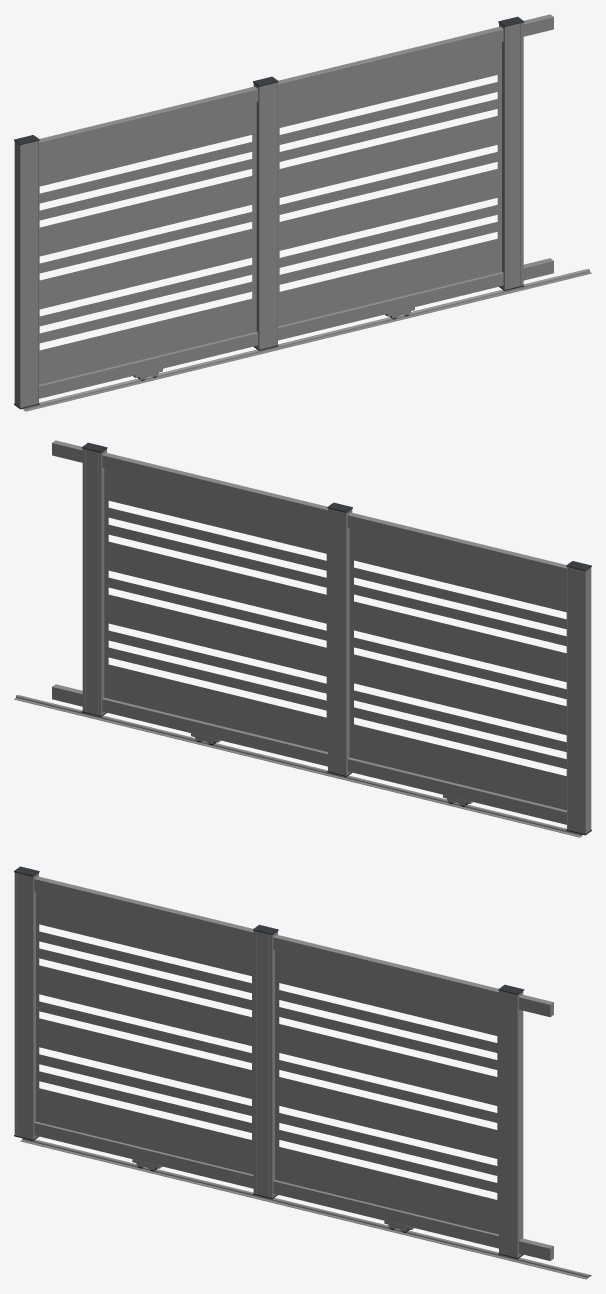
3 renders of one model, top to bottom at view 1: azimuth 30°, elevation 25°; view 2: azimuth 150°, elevation 25°; view 3: azimuth 330°, elevation 25°, orthographic.
Parts seen in each view (by area): view 1: barres horizontales001, barres horizontales, Rectangle060, Rectangle061, Shape107412643, Shape107413021, Shape107413022, Rail; view 2: barres horizontales001, barres horizontales, Rectangle060, Rectangle061, Shape107412643, Shape107413021, Shape107413022, Rail; view 3: barres horizontales001, barres horizontales, Rectangle060, Rectangle061, Shape107413021, Shape107412643, Shape107413022, Rail.
Part boxes in pixels (x1=…): barres horizontales001: x1=278, y1=42, x2=501, y2=326; barres horizontales: x1=39, y1=102, x2=256, y2=384; Rectangle060: x1=39, y1=14, x2=553, y2=154; Rectangle061: x1=39, y1=258, x2=553, y2=398; Shape107412643: x1=14, y1=141, x2=38, y2=407; Shape107413021: x1=499, y1=22, x2=523, y2=289; Shape107413022: x1=253, y1=82, x2=277, y2=349; Rail: x1=23, y1=269, x2=591, y2=411; barres horizontales001: x1=104, y1=468, x2=327, y2=751; barres horizontales: x1=349, y1=528, x2=566, y2=810; Rectangle060: x1=52, y1=440, x2=566, y2=580; Rectangle061: x1=52, y1=684, x2=566, y2=824; Shape107412643: x1=567, y1=567, x2=591, y2=833; Shape107413021: x1=82, y1=448, x2=106, y2=715; Shape107413022: x1=328, y1=508, x2=352, y2=775; Rail: x1=14, y1=695, x2=582, y2=837; barres horizontales001: x1=275, y1=950, x2=498, y2=1234; barres horizontales: x1=36, y1=892, x2=253, y2=1174; Rectangle060: x1=34, y1=876, x2=553, y2=1017; Rectangle061: x1=34, y1=1121, x2=553, y2=1260; Shape107413021: x1=499, y1=990, x2=523, y2=1257; Shape107412643: x1=14, y1=872, x2=38, y2=1139; Shape107413022: x1=253, y1=930, x2=277, y2=1197; Rail: x1=20, y1=1138, x2=591, y2=1279.
Bounding box in the file's own units: 3638 × 1636 × 70.
6 materials, 2 textured.
